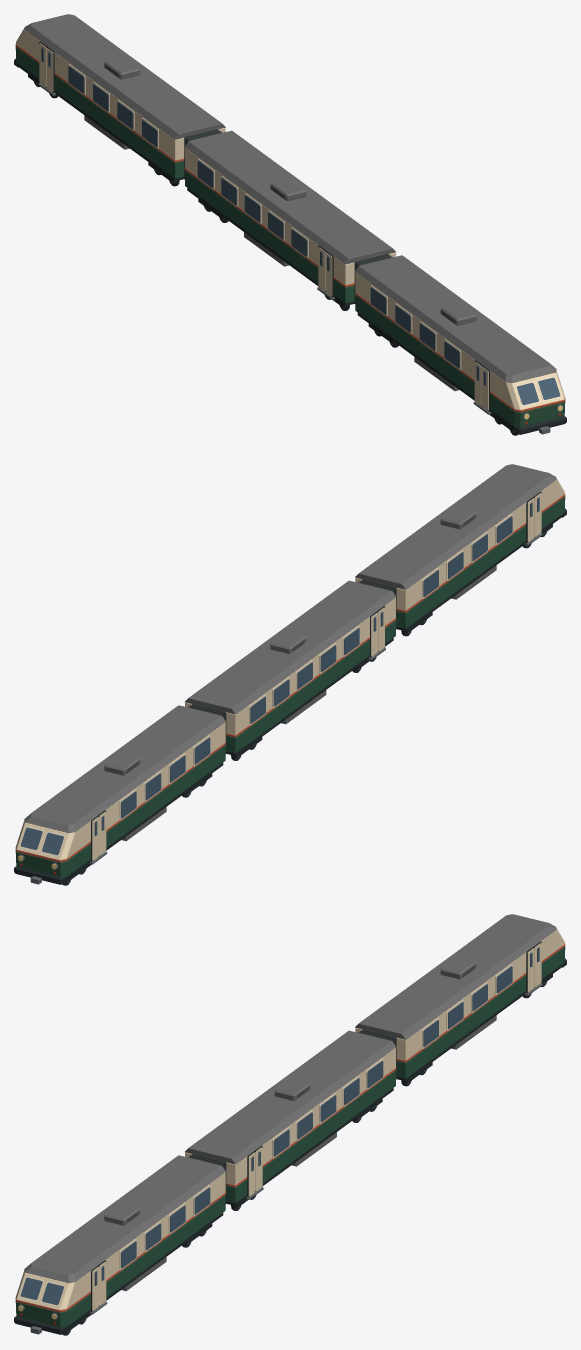
The model's file is RegionalTrainV2.glb.
The picture shows the model from 3 angles, top to bottom: view 1: azimuth 30°, elevation 25°; view 2: azimuth 150°, elevation 25°; view 3: azimuth 330°, elevation 25°; orthographic projection.
Visible parts, largest first — view 1: Roof.001, Roof, Roof.002, LowerBody, LowerBody.001, LowerBody.002, UpperBody, UpperBody.002, UpperBody.001, RoofHVAC, RoofHVAC.001, RoofHVAC.002 (+2 smaller); view 2: Roof.001, Roof.002, Roof, LowerBody.002, LowerBody, LowerBody.001, UpperBody.002, UpperBody, UpperBody.001, RoofHVAC.002, RoofHVAC, RoofHVAC.001 (+2 smaller); view 3: Roof.001, Roof, Roof.002, LowerBody, LowerBody.001, LowerBody.002, UpperBody, UpperBody.002, UpperBody.001, RoofHVAC, RoofHVAC.001, RoofHVAC.002 (+2 smaller).
Boxes of the visible parts, x1,y1,x2,y2 form: Roof.001: (185,130,395,264); Roof: (355,255,556,383); Roof.002: (24,14,225,139); LowerBody: (355,295,565,427); LowerBody.001: (185,170,354,303); LowerBody.002: (15,46,184,178); UpperBody: (355,272,564,410); UpperBody.002: (16,28,225,160); UpperBody.001: (185,148,395,285); RoofHVAC: (440,303,476,325); RoofHVAC.001: (270,179,306,200); RoofHVAC.002: (104,57,140,79); Roof.001: (185,580,395,714); Roof.002: (24,705,225,833); Roof: (355,464,556,589); LowerBody.002: (15,745,225,877); LowerBody: (396,496,565,628); LowerBody.001: (226,620,395,753); UpperBody.002: (16,722,225,860); UpperBody: (355,478,564,610); UpperBody.001: (185,598,395,735); RoofHVAC.002: (104,753,140,775); RoofHVAC: (440,507,476,529); RoofHVAC.001: (270,632,306,654); Roof.001: (185,1030,395,1164); Roof: (24,1155,225,1283); Roof.002: (355,914,556,1039); LowerBody: (15,1195,225,1327); LowerBody.001: (226,1070,395,1203); LowerBody.002: (396,946,565,1078); UpperBody: (16,1172,225,1310); UpperBody.002: (355,928,564,1060); UpperBody.001: (185,1048,395,1185); RoofHVAC: (104,1203,140,1225); RoofHVAC.001: (274,1079,310,1100); RoofHVAC.002: (440,957,476,979).
Size of the model in its own units: 2.96 by 3.58 by 48.06.
